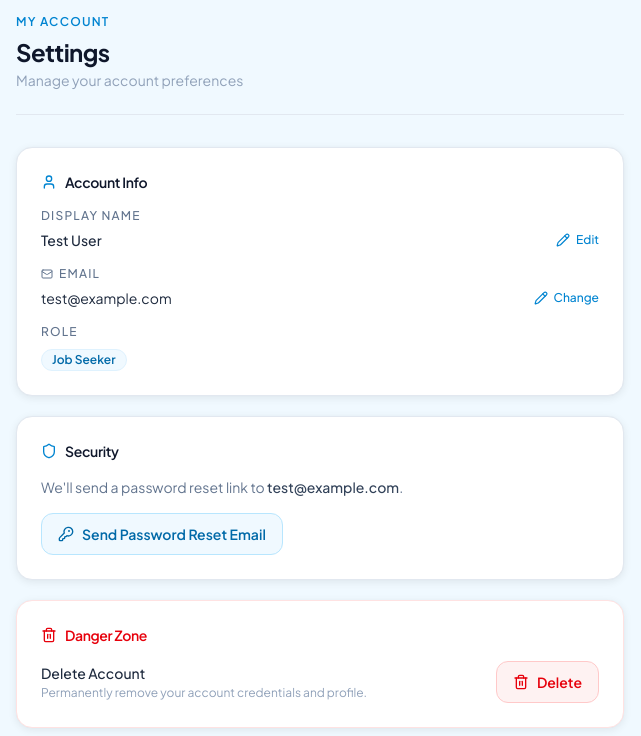
Test: SettingsPage › cancels edit on Escape key
Click the button "Edit". click: [578, 240]
box: [556,232,599,248]
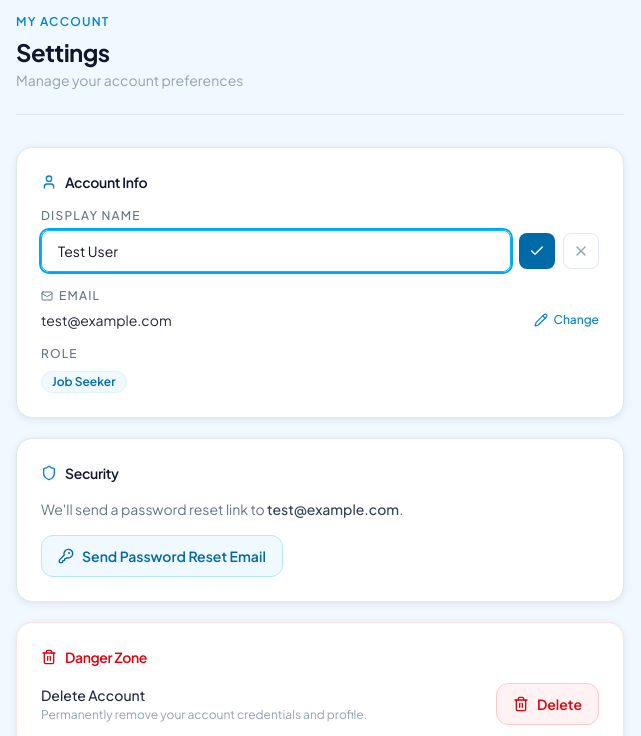
Press Escape in the field showing "Test User", box [41,230,511,272]
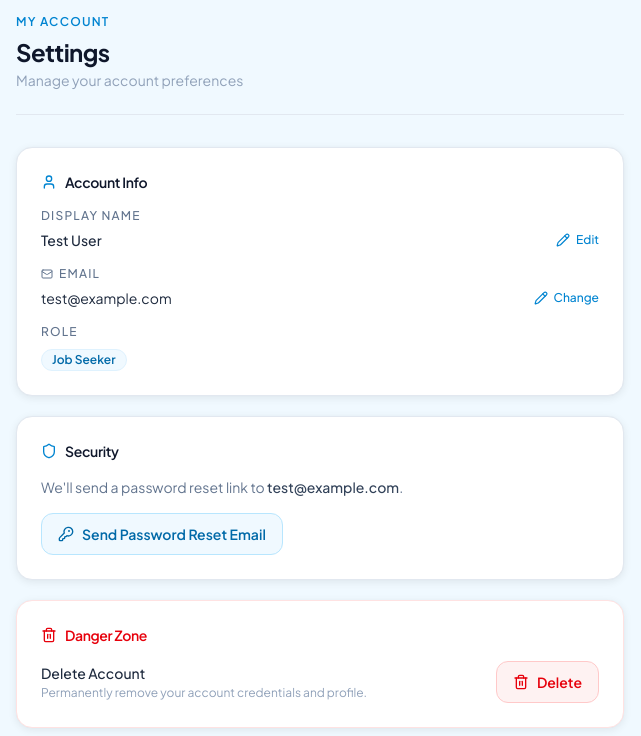
Now the text "Test User" is shown, box [41,230,102,250]
